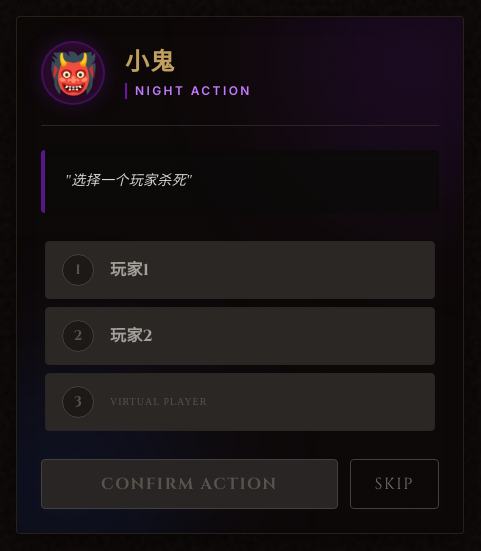
Test case: NightActionPanel › choose_player 类型：点击玩家应该选择该玩家 | choose_player type: clicking player should select it
Click the text "玩家1". click: [130, 270]
box: [110, 258, 150, 282]
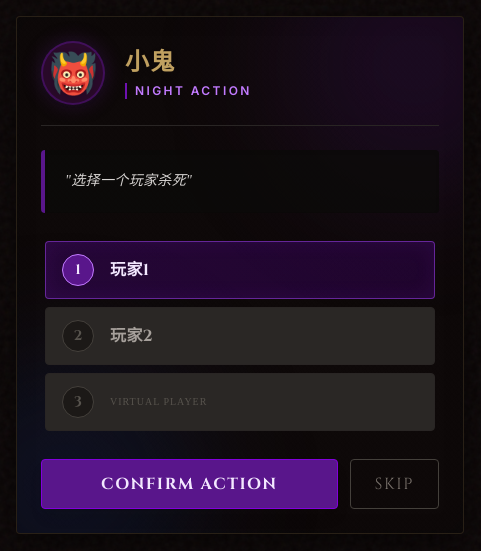
Check: the button "Confirm Action" is enabled, box [41, 459, 338, 509]
